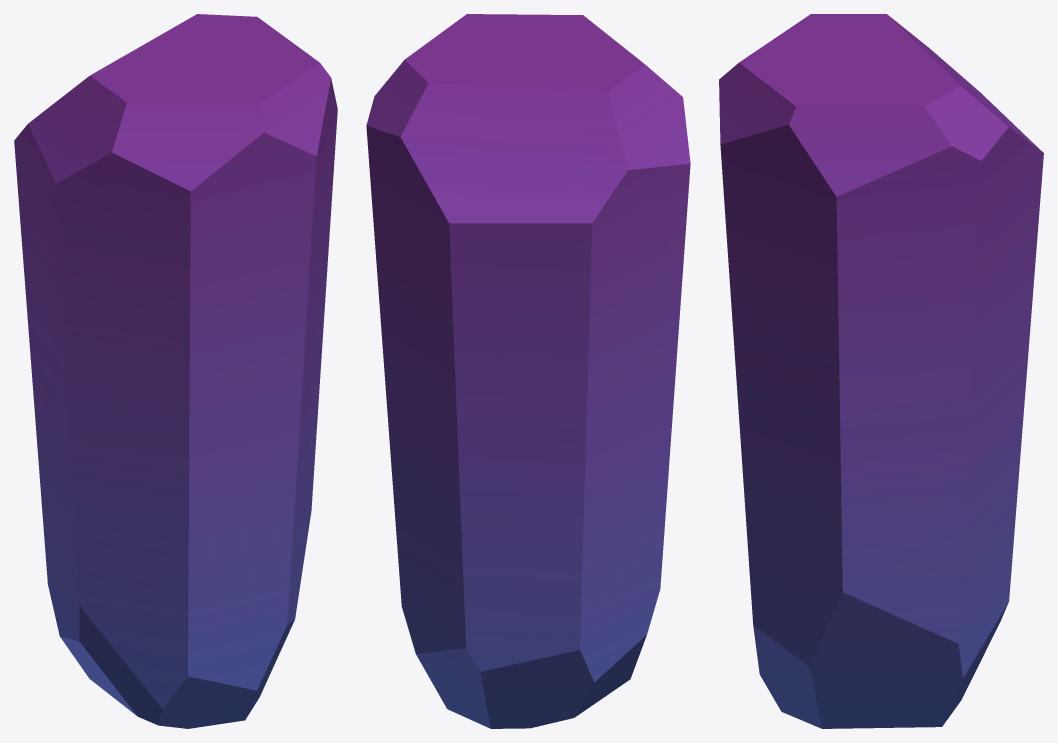
File: rocatopacio_04.fbx
3 renders of one model, left to right at view 1: azimuth 30°, elevation 25°; view 2: azimuth 150°, elevation 25°; view 3: azimuth 270°, elevation 25°, orthographic. The views are drawn at different scales.
Parts seen in each view (by area): view 1: cueva08.001; view 2: cueva08.001; view 3: cueva08.001.
Boxes of the visible parts, x1,y1,x2,y2 form: cueva08.001: (14,14,337,728); cueva08.001: (366,14,690,728); cueva08.001: (719,14,1043,728).
Size of the model in its own units: 356 by 763 by 348.
Materials: 1 (1 with a texture image).
